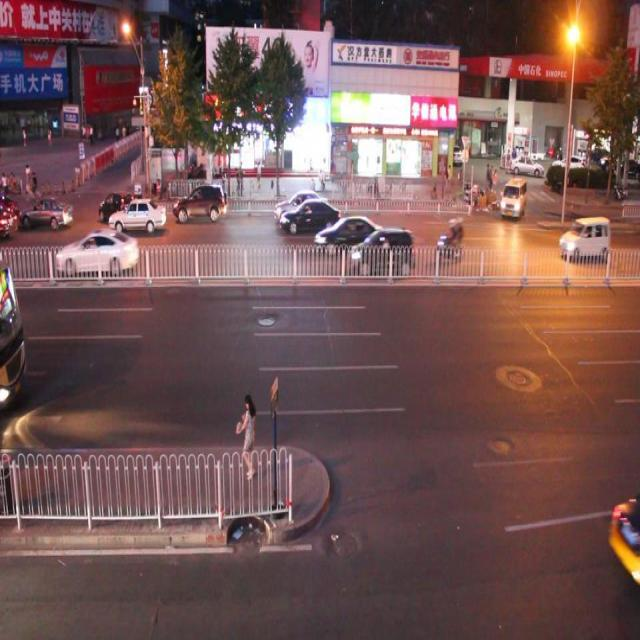car: (274, 183, 340, 234), (55, 233, 136, 274), (348, 226, 415, 272), (562, 214, 611, 264), (172, 185, 228, 226), (110, 194, 166, 233), (19, 201, 72, 235), (498, 176, 527, 222), (512, 151, 543, 180)
